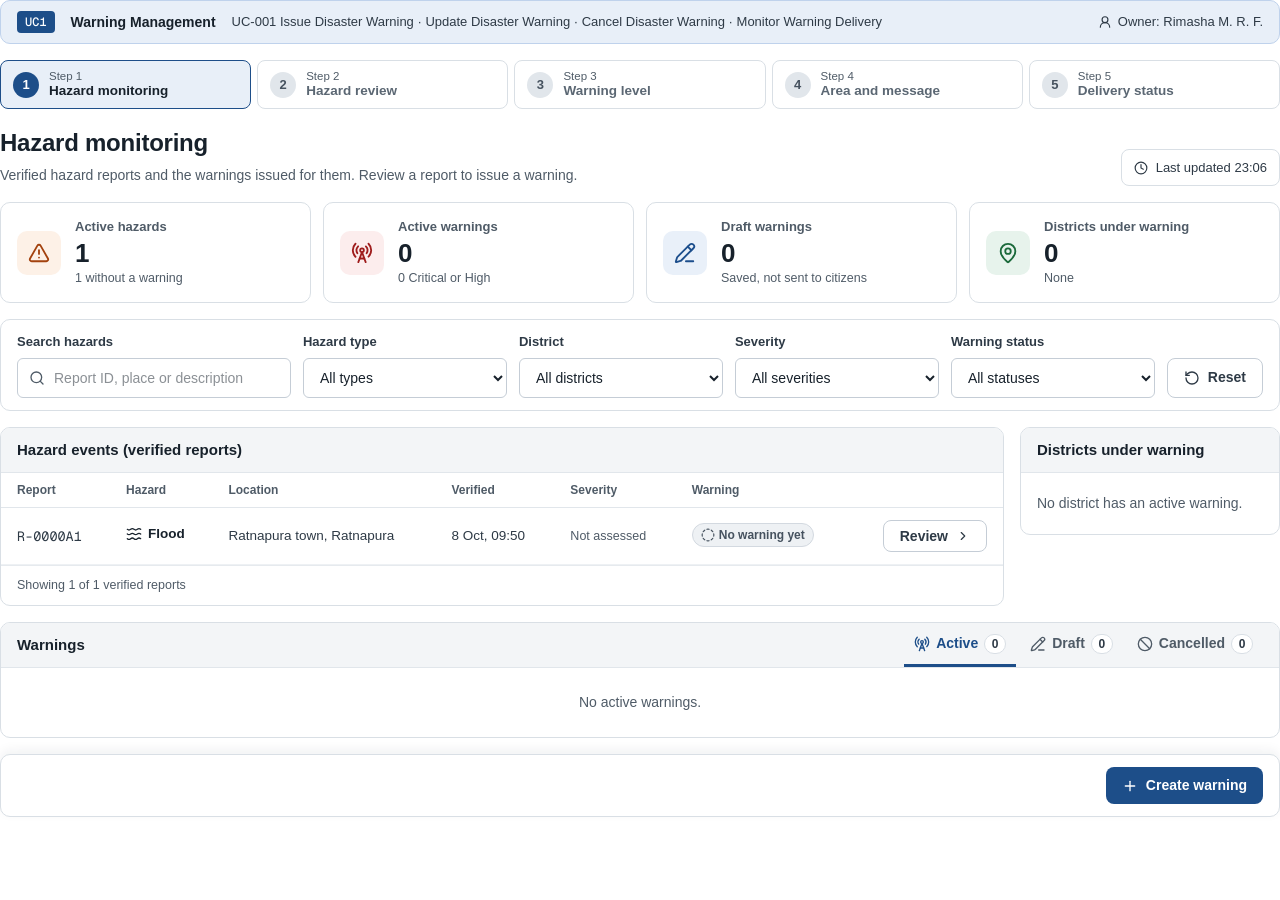
Test: WarningWorkflow › stays on the level step and shows what is missing
Expected: the text "Ratnapura town, Ratnapura" is shown, [212,508,435,565]
Click the button "Create warning": [1184, 786] box [1106,767,1263,804]
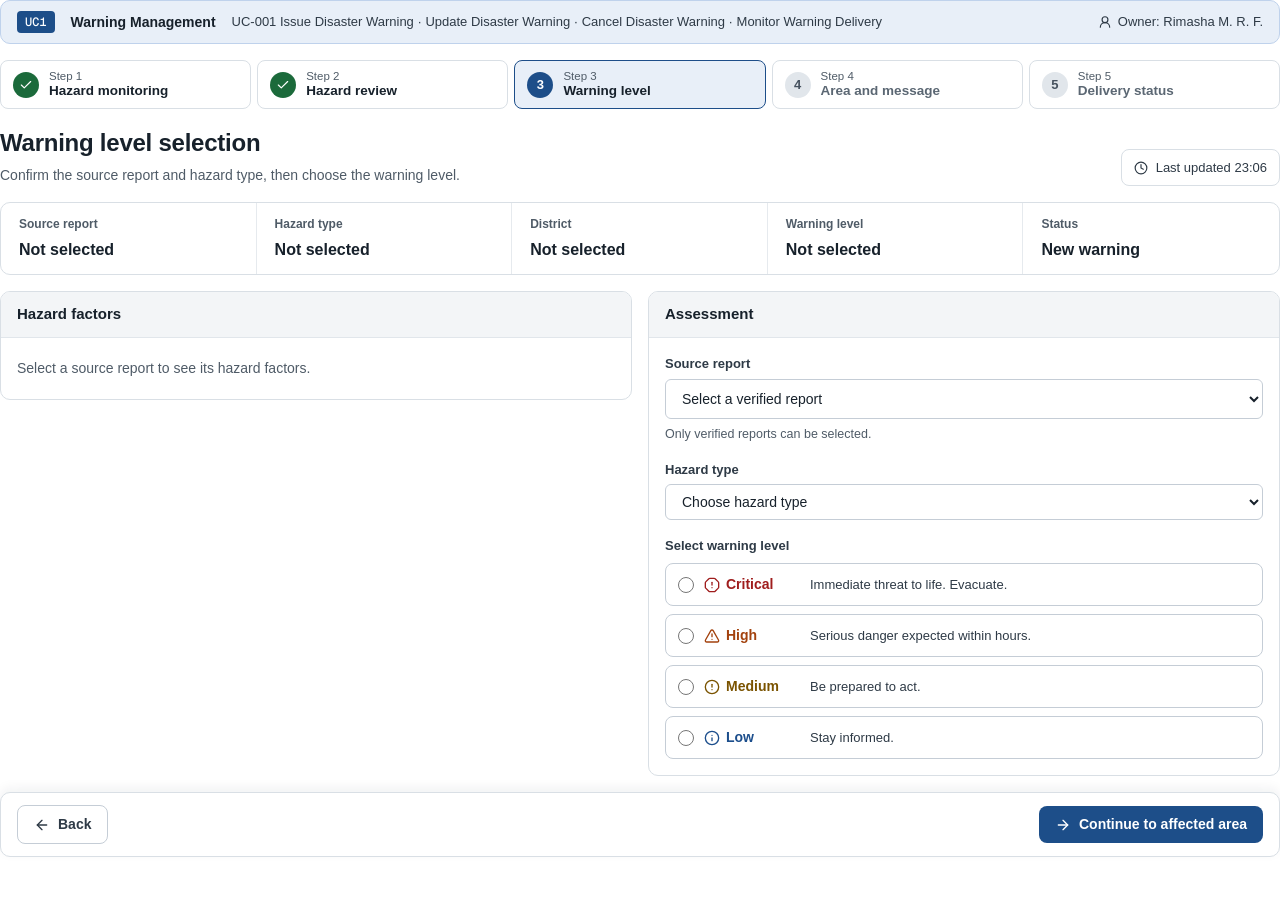
Click the button "Continue to affected area": [1151, 824] box [1039,806,1263,843]
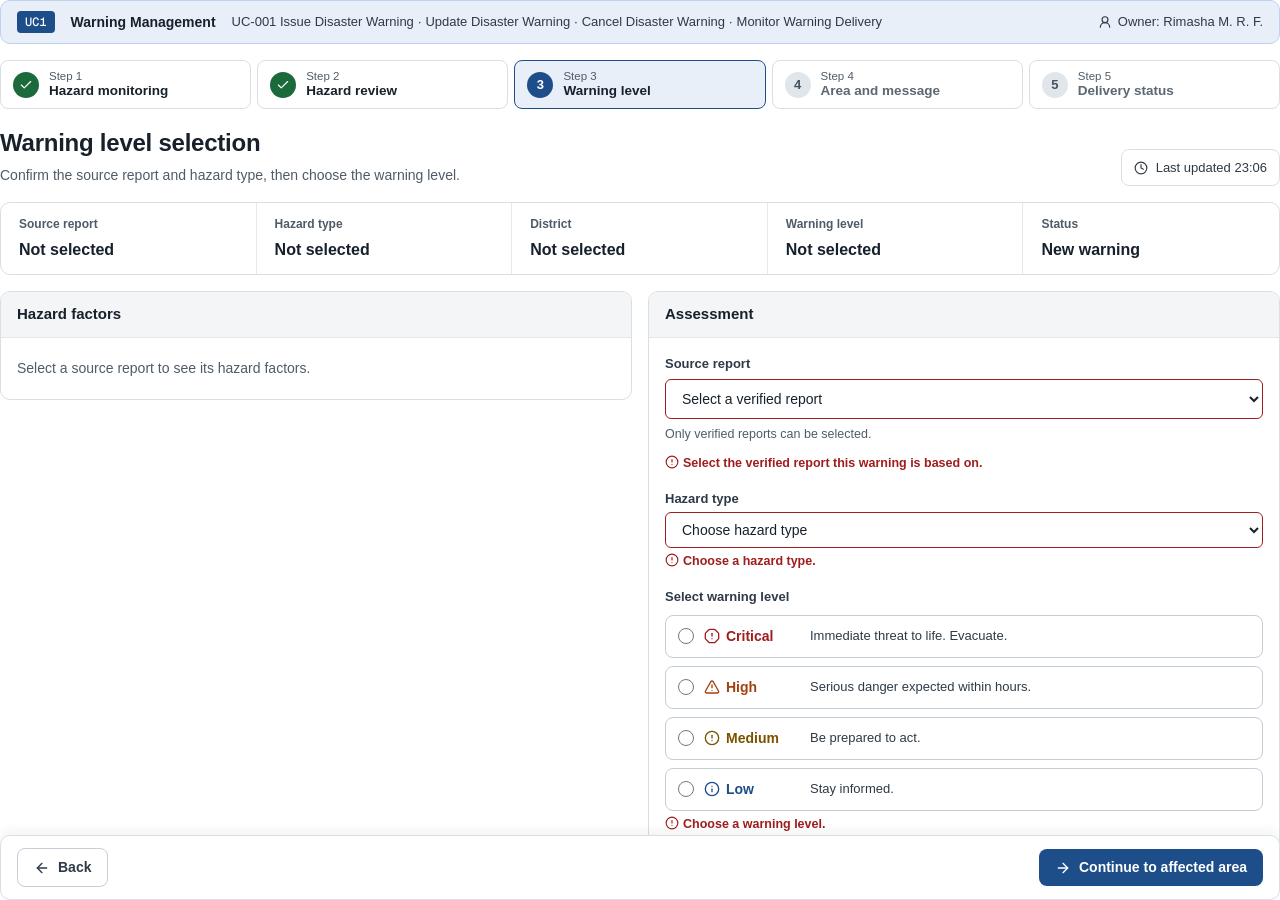
Now the heading "Warning level selection" is shown, box [0,129,260,156]
Now the text "Choose a warning level." is shown, box [665,816,825,830]
